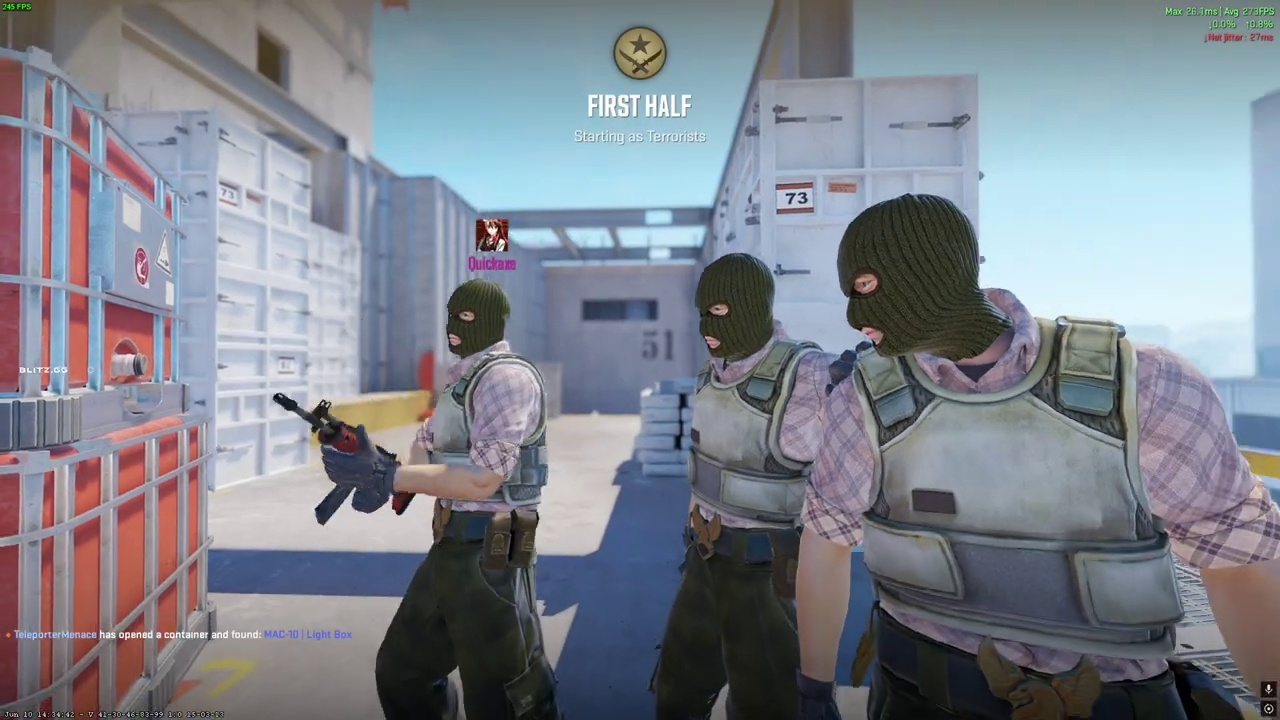Terrorist: (808, 194, 1268, 720), (648, 253, 839, 720), (362, 279, 560, 720)
